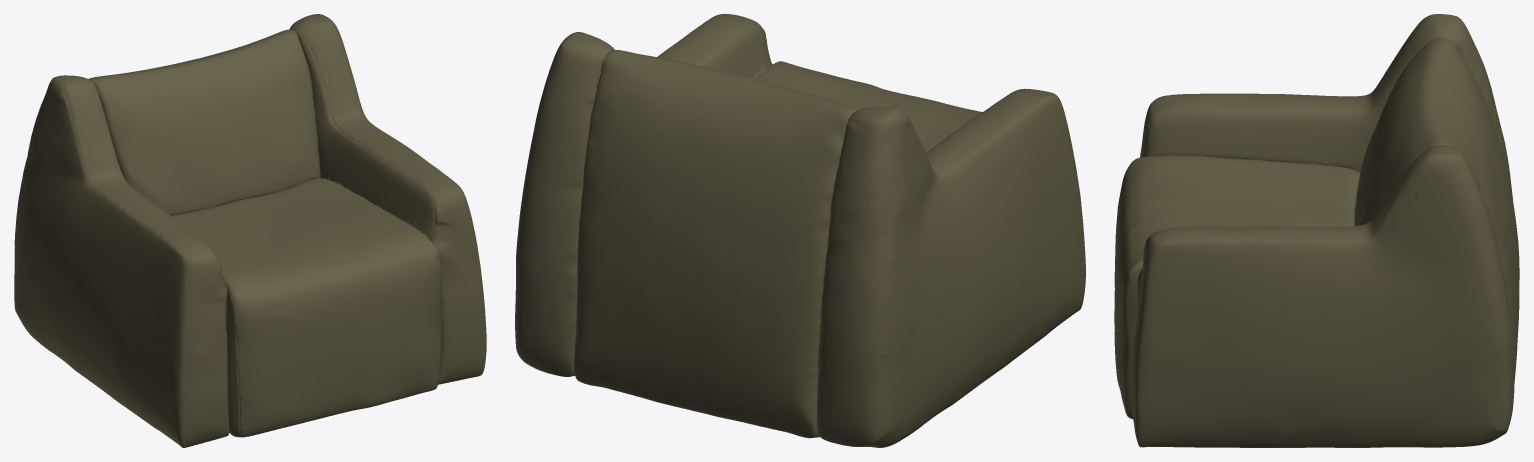
File: pira-chair.glb
3 views of the same model, side by side, from view 1: azimuth 30°, elevation 25°; view 2: azimuth 150°, elevation 25°; view 3: azimuth 270°, elevation 25° (orthographic). The views are drawn at different scales.
Parts seen in each view (by area): view 1: model; view 2: model; view 3: model.
Part boxes in pixels (x1,y1,x2,y2): model: (14, 14, 486, 447); model: (515, 14, 1085, 447); model: (1114, 14, 1519, 447).
Size of the model in its own units: 1.02 by 0.7869 by 1.02.
